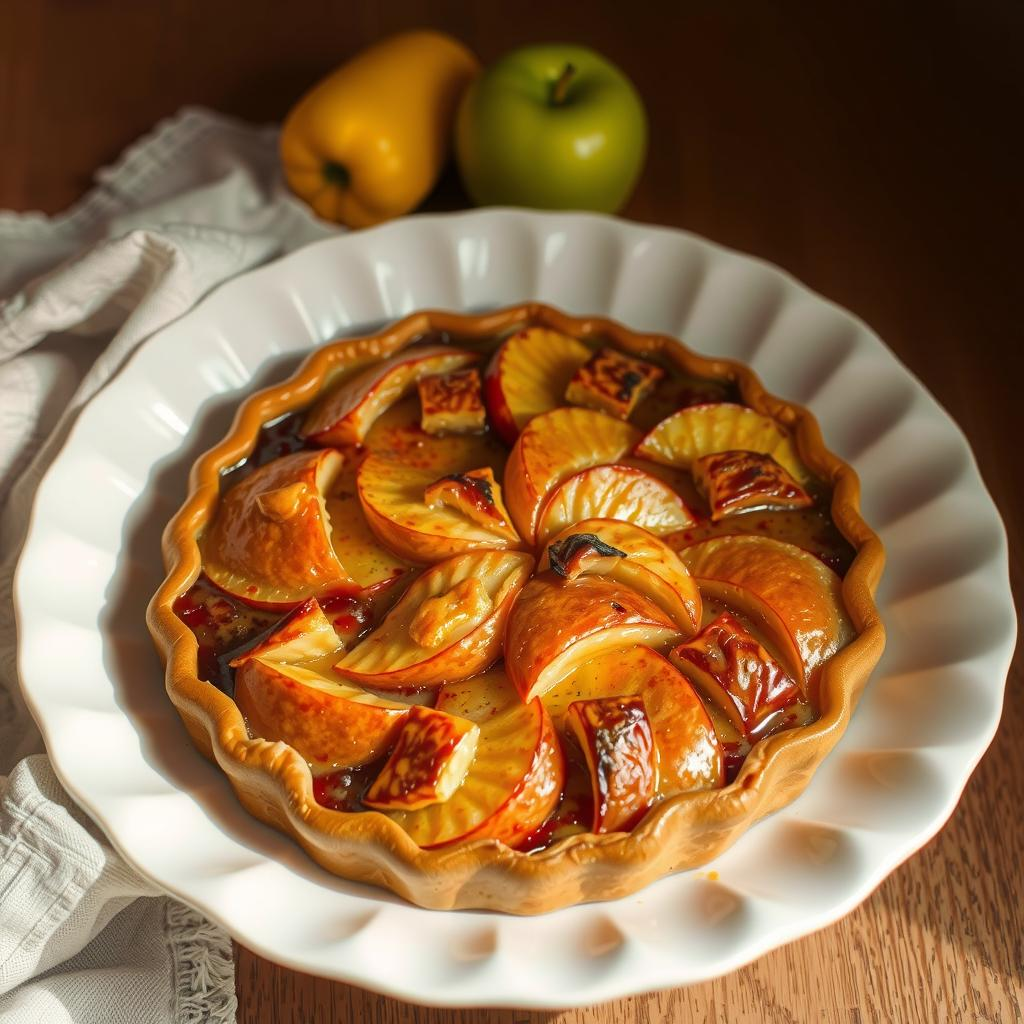pie: (133, 294, 897, 921)
